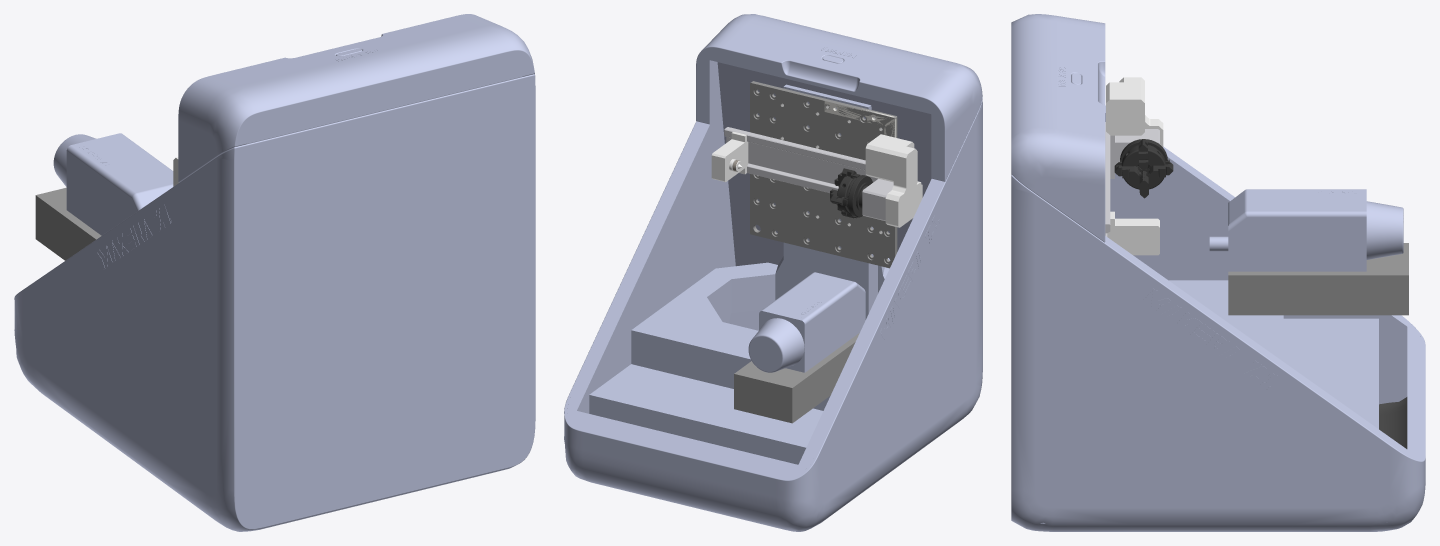
Rendered from makera_z1_4axis.glb.
The picture shows the model from 3 angles, left to right: view 1: azimuth 30°, elevation 25°; view 2: azimuth 150°, elevation 25°; view 3: azimuth 270°, elevation 25°; orthographic projection. The views are drawn at different scales.
Visible parts, largest first — view 1: 1100_4_1_1:1, FrontStatic:1, ZAxis:1, XAxis:1; view 2: 1100_4_1_1:1, 1100_4_2_1:1, Internal Frame:1, FrontStatic:1, Z1-MDF-v2.1:1, ZAxis:1, XAxis:1, MZ1--V20003_1:1, MZ1--V30001_1:1, MZ1--V30002_1:1, Tailstock:1, Spindle Chuck:1 (+2 smaller); view 3: 1100_4_1_1:1, FrontStatic:1, 1100_4_2_1:1, ZAxis:1, Internal Frame:1, XAxis:1, MZ1--V30002_1:1, Spindle Chuck:1, Tailstock:1, MZ1--V20005_1:1, MZ1--V20003_1:1.
Boxes of the visible parts, <box> form: 1100_4_1_1:1: <box>14,74,535,531</box>; FrontStatic:1: <box>178,14,534,182</box>; ZAxis:1: <box>53,133,173,235</box>; XAxis:1: <box>35,187,101,260</box>; 1100_4_1_1:1: <box>564,94,982,531</box>; 1100_4_2_1:1: <box>567,101,942,530</box>; Internal Frame:1: <box>589,84,890,464</box>; FrontStatic:1: <box>696,14,982,181</box>; Z1-MDF-v2.1:1: <box>750,81,897,268</box>; ZAxis:1: <box>748,272,865,372</box>; XAxis:1: <box>734,333,859,423</box>; MZ1--V20003_1:1: <box>724,127,877,192</box>; MZ1--V30001_1:1: <box>889,146,922,227</box>; MZ1--V30002_1:1: <box>865,134,914,225</box>; Tailstock:1: <box>711,131,748,182</box>; Spindle Chuck:1: <box>830,168,872,218</box>; 1100_4_1_1:1: <box>1011,105,1425,531</box>; FrontStatic:1: <box>1011,14,1105,242</box>; 1100_4_2_1:1: <box>1040,107,1421,529</box>; ZAxis:1: <box>1209,189,1403,271</box>; Internal Frame:1: <box>1169,280,1378,428</box>; XAxis:1: <box>1228,243,1408,315</box>; MZ1--V30002_1:1: <box>1106,82,1163,147</box>; Spindle Chuck:1: <box>1114,139,1173,198</box>; Tailstock:1: <box>1107,211,1159,255</box>; MZ1--V20005_1:1: <box>1110,129,1159,178</box>; MZ1--V20003_1:1: <box>1105,122,1110,236</box>.
Bounding box in the file's own units: 0.3554 × 0.4763 × 0.449.
